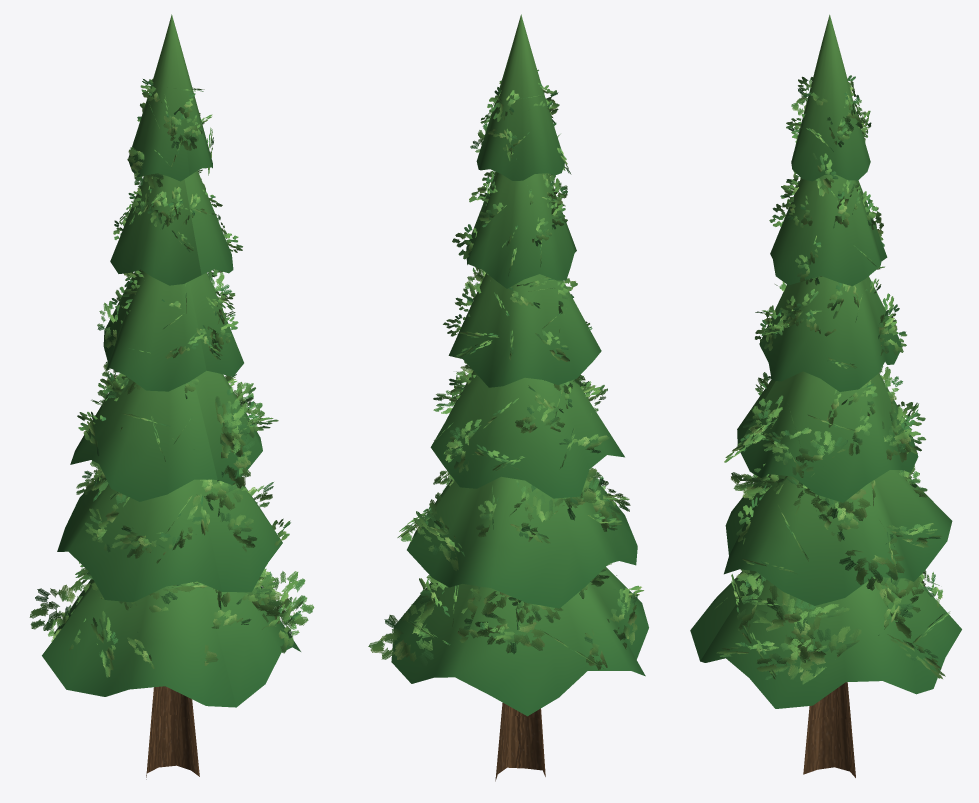
The model's file is tree_pine_tall.glb.
3 renders of one model, left to right at view 1: azimuth 30°, elevation 25°; view 2: azimuth 150°, elevation 25°; view 3: azimuth 270°, elevation 25°, orthographic.
Visible parts, largest first — view 1: tree_pine, tree_pine_bark_Pine; view 2: tree_pine, tree_pine_bark_Pine; view 3: tree_pine, tree_pine_bark_Pine.
Part boxes in pixels (left/top/right/bottom): tree_pine: left=29, top=14, right=314, bottom=707; tree_pine_bark_Pine: left=146, top=686, right=199, bottom=779; tree_pine: left=368, top=14, right=648, bottom=716; tree_pine_bark_Pine: left=495, top=703, right=545, bottom=781; tree_pine: left=690, top=14, right=961, bottom=708; tree_pine_bark_Pine: left=803, top=682, right=855, bottom=777.
Bounding box in the file's own units: 4.71 × 14.35 × 4.67.
Materials: 3 (2 with a texture image).
